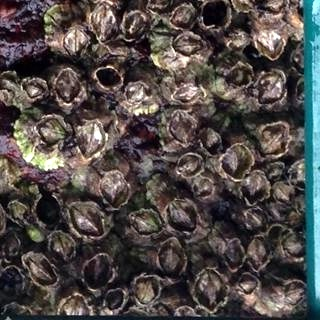Barnacle: (97, 166, 135, 207), (69, 200, 106, 239), (196, 269, 226, 310), (37, 113, 69, 149), (223, 145, 254, 181), (77, 121, 106, 159), (255, 125, 289, 157), (255, 21, 284, 58), (168, 111, 196, 148), (166, 200, 198, 232), (24, 254, 57, 285), (160, 239, 185, 279), (242, 169, 270, 204), (258, 71, 286, 105), (282, 230, 313, 260), (91, 5, 116, 42), (62, 26, 89, 60), (49, 232, 76, 265), (54, 71, 80, 105), (132, 275, 161, 305), (173, 32, 205, 57), (197, 128, 223, 157), (132, 211, 163, 235), (246, 238, 269, 270), (60, 297, 92, 319), (1, 234, 23, 264), (169, 5, 196, 29), (283, 282, 308, 307), (224, 239, 244, 270), (177, 154, 203, 177), (245, 210, 269, 234), (122, 82, 147, 105), (125, 11, 146, 38), (10, 197, 31, 222), (174, 86, 203, 104), (226, 68, 252, 88), (104, 287, 125, 311), (239, 274, 259, 297), (273, 182, 294, 203), (260, 0, 286, 16), (230, 34, 250, 53), (193, 180, 213, 199), (149, 0, 172, 15), (0, 74, 18, 91), (26, 82, 45, 98)
